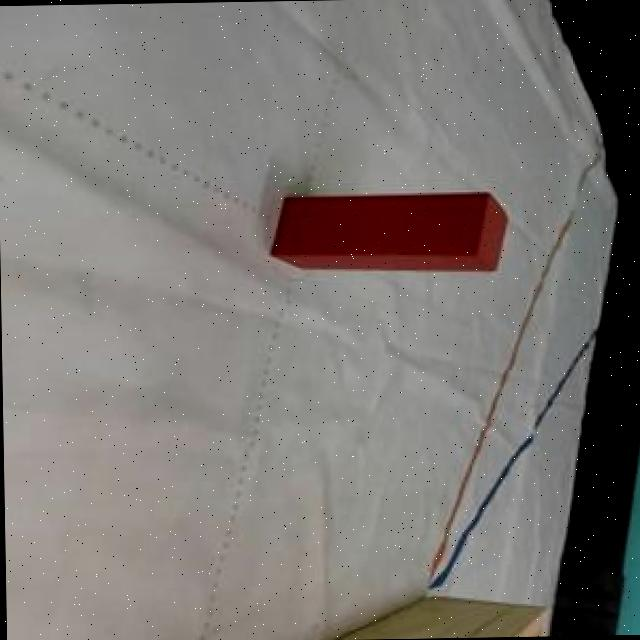redbox: (268, 191, 510, 277)
